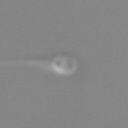normal: (1, 55, 52, 73)
